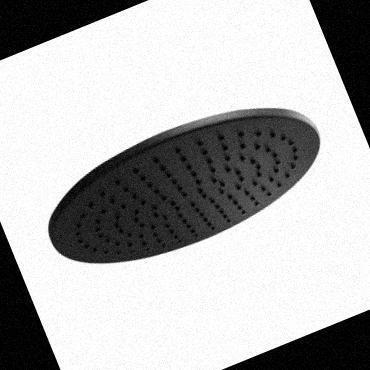Ducha: (19, 71, 338, 298)
